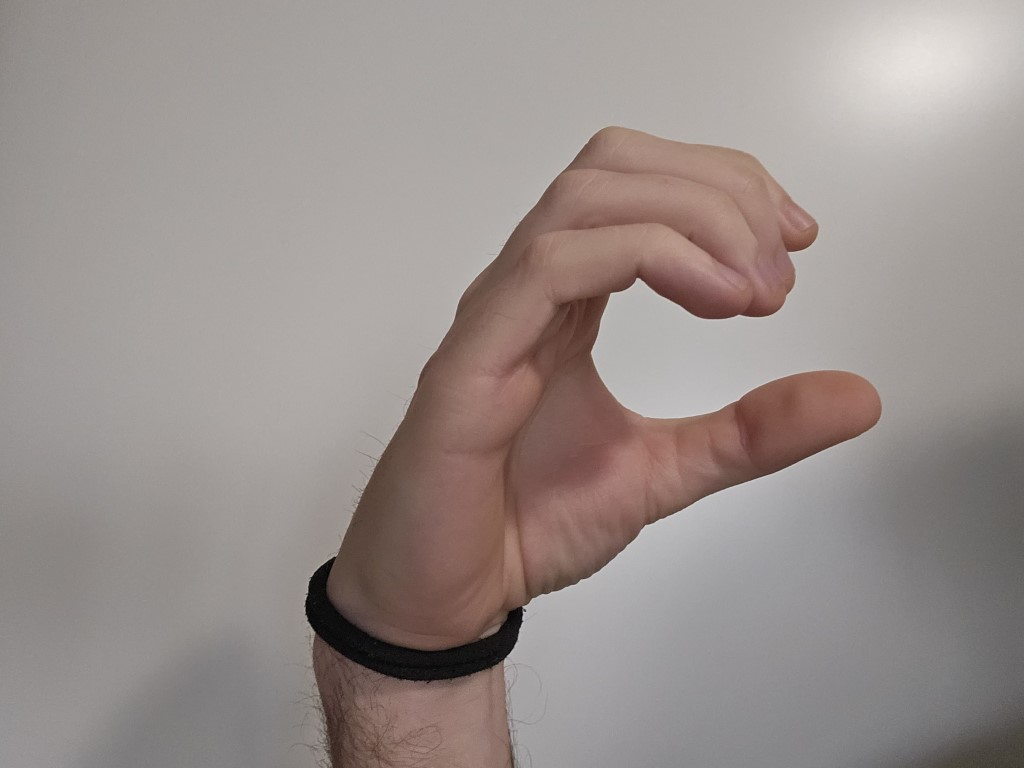c: (348, 59, 926, 601)
